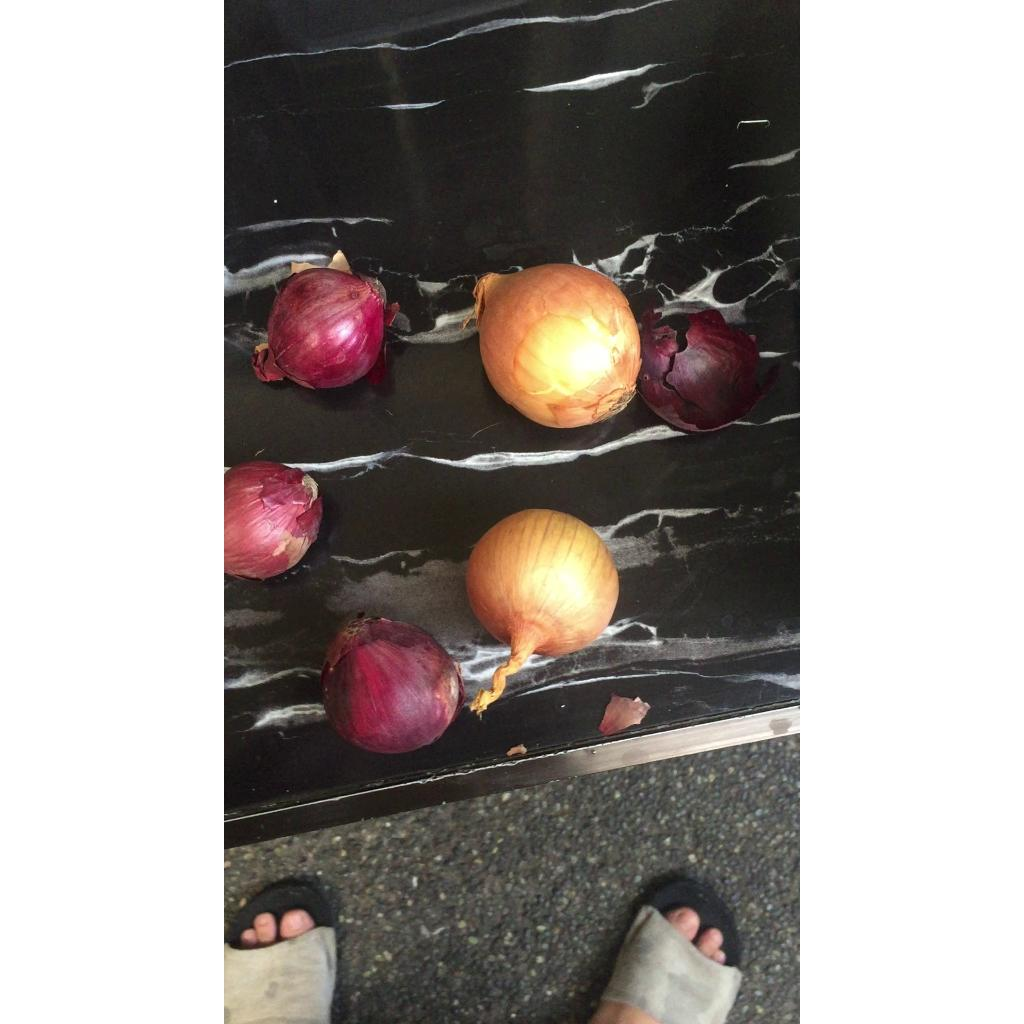Onion: (465, 509, 619, 714), (472, 264, 642, 430), (319, 617, 465, 753), (251, 267, 385, 390), (224, 461, 323, 579)
